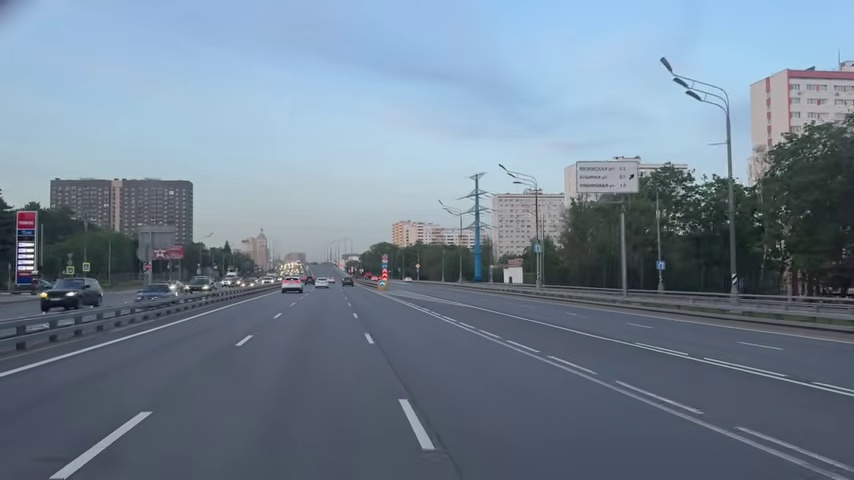apagada: (657, 58, 699, 102), (666, 72, 701, 104), (119, 409, 152, 435), (657, 56, 674, 76)
